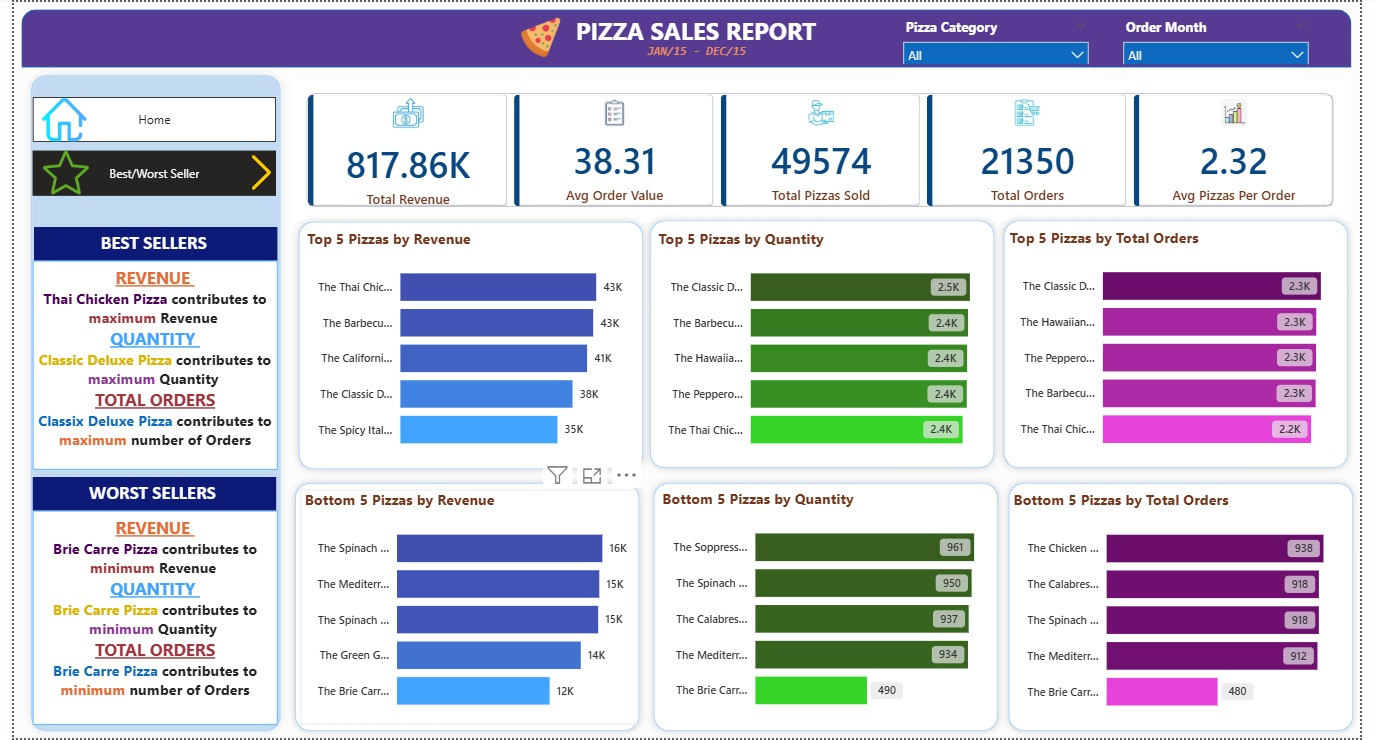

The dashboard page shown, as its layout file describes it:
{"tool":"powerbi","page":{"name":"Best/Worst Seller","canvas":[1500,820],"ordinal":1},"visuals":[{"type":"cardVisual","fields":{"Data":["pizza_db pizza_sales_excel_file.Total Revenue","pizza_db pizza_sales_excel_file.Avg Order Value","pizza_db pizza_sales_excel_file.Total Pizzas Sold","pizza_db pizza_sales_excel_file.Total Orders","pizza_db pizza_sales_excel_file.Avg Pizzas Per Order"]},"box":[309.2,85,1181,160.2],"z":0},{"type":"shape","box":[8.5,8.5,1481.7,64.6],"z":1000},{"type":"textbox","box":[610,8.4,299.4,47.4],"z":2000},{"type":"textbox","box":[694.9,40.4,130.9,32],"z":3000},{"type":"image","box":[552.9,16.7,68.2,46],"z":4000},{"type":"shape","box":[309.2,236.8,399.7,292],"z":5000},{"type":"shape","box":[11.1,73.8,293.9,746.5],"z":15000},{"type":"textbox","box":[22.3,250.7,271.6,37.6],"z":16000},{"type":"textbox","box":[20.9,288.3,273,232.6],"z":17000},{"type":"textbox","box":[20.9,529.2,271.6,37.6],"z":18000},{"type":"textbox","box":[20.9,566.8,273,238.1],"z":19000},{"type":"slicer","fields":{"Values":["pizza_db pizza_sales_excel_file.pizza_category"]},"box":[980.4,12.5,227,57.1],"z":20000},{"type":"slicer","title":"Order Month","fields":{"Values":["pizza_db pizza_sales_excel_file.Order Month"]},"box":[1225.5,12.5,227,57.1],"z":21000},{"type":"shape","box":[1094.6,235.4,399.7,292],"z":21001},{"type":"shape","box":[700.5,235.4,399.7,292],"z":21002},{"type":"shape","box":[305,527.8,399.7,292.5],"z":21003},{"type":"shape","box":[704.7,527.8,399.7,292.5],"z":21004},{"type":"shape","box":[1100.2,527.8,399.7,292.5],"z":21005},{"type":"barChart","title":"Top 5 Pizzas by Revenue","fields":{"Category":["pizza_db pizza_sales_excel_file.pizza_name"],"Y":["pizza_db pizza_sales_excel_file.Total Revenue"]},"box":[321.7,252.1,383,261.8],"z":21006},{"type":"barChart","title":"Bottom 5 Pizzas by Revenue","fields":{"Category":["pizza_db pizza_sales_excel_file.pizza_name"],"Y":["pizza_db pizza_sales_excel_file.Total Revenue"]},"box":[318.9,543.1,381.6,261.8],"z":21007},{"type":"barChart","title":"Top 5 Pizzas by Quantity","fields":{"Category":["pizza_db pizza_sales_excel_file.pizza_name"],"Y":["pizza_db pizza_sales_excel_file.Total Pizzas Sold"]},"box":[713,252.1,381.6,261.8],"z":21008},{"type":"barChart","title":"Bottom 5 Pizzas by Quantity","fields":{"Category":["pizza_db pizza_sales_excel_file.pizza_name"],"Y":["pizza_db pizza_sales_excel_file.Total Pizzas Sold"]},"box":[717.1,541.3,382.5,262.9],"z":21009},{"type":"barChart","title":"Top 5 Pizzas by Total Orders","fields":{"Category":["pizza_db pizza_sales_excel_file.pizza_name"],"Y":["pizza_db pizza_sales_excel_file.Total Orders"]},"box":[1103.8,250.3,382.5,262.9],"z":21010},{"type":"barChart","title":"Bottom 5 Pizzas by Total Orders","fields":{"Category":["pizza_db pizza_sales_excel_file.pizza_name"],"Y":["pizza_db pizza_sales_excel_file.Total Orders"]},"box":[1108,542.7,382.5,262.9],"z":21011},{"type":"pageNavigator","box":[20.9,165.7,271.6,50.1],"z":21012},{"type":"pageNavigator","box":[20.9,105.8,271.6,50.1],"z":21013},{"type":"image","box":[246.5,169.9,58.5,40.4],"z":21014},{"type":"image","box":[20.8,105.8,70,50],"z":21015},{"type":"image","box":[30,163.8,53.8,51.2],"z":21016}]}

Visuals, with their boxes in screenshot pixels (x1, y1, x2, y2), scaled from the page's 1500x820 canvas onto the 1375x740 screenshot:
cardVisual - pizza_db pizza_sales_excel_file.Total Revenue x pizza_db pizza_sales_excel_file.Avg Order Value: box(283, 77, 1366, 221)
shape: box(8, 8, 1366, 66)
textbox: box(559, 8, 834, 50)
textbox: box(637, 36, 757, 65)
image: box(507, 15, 569, 57)
shape: box(283, 214, 650, 477)
shape: box(10, 67, 280, 739)
textbox: box(20, 226, 269, 260)
textbox: box(19, 260, 269, 470)
textbox: box(19, 478, 268, 512)
textbox: box(19, 512, 269, 726)
slicer - pizza_db pizza_sales_excel_file.pizza_category: box(899, 11, 1107, 63)
"Order Month" slicer: box(1123, 11, 1331, 63)
shape: box(1003, 212, 1370, 476)
shape: box(642, 212, 1009, 476)
shape: box(280, 476, 646, 739)
shape: box(646, 476, 1012, 739)
shape: box(1009, 476, 1374, 739)
"Top 5 Pizzas by Revenue" barChart: box(295, 228, 646, 464)
"Bottom 5 Pizzas by Revenue" barChart: box(292, 490, 642, 726)
"Top 5 Pizzas by Quantity" barChart: box(654, 228, 1003, 464)
"Bottom 5 Pizzas by Quantity" barChart: box(657, 488, 1008, 726)
"Top 5 Pizzas by Total Orders" barChart: box(1012, 226, 1362, 463)
"Bottom 5 Pizzas by Total Orders" barChart: box(1016, 490, 1366, 727)
pageNavigator: box(19, 150, 268, 195)
pageNavigator: box(19, 95, 268, 141)
image: box(226, 153, 280, 190)
image: box(19, 95, 83, 141)
image: box(28, 148, 77, 194)
